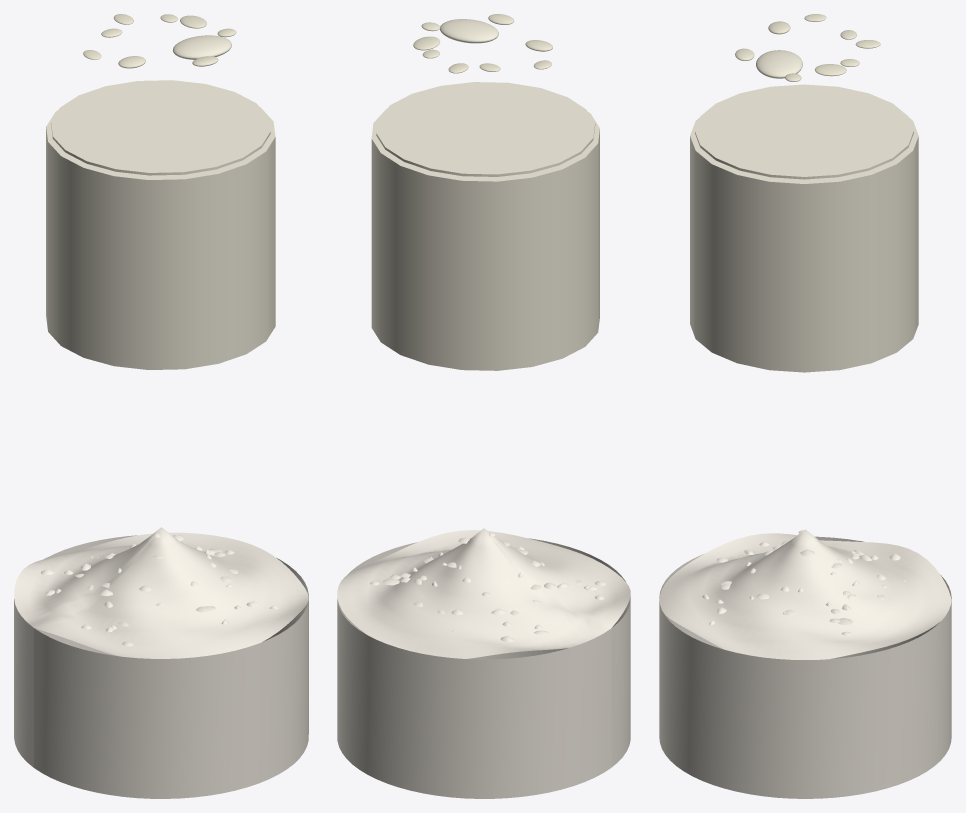
Rendered from PowderVisualRoot.fbx.
3 renders of one model, left to right at view 1: azimuth 30°, elevation 25°; view 2: azimuth 150°, elevation 25°; view 3: azimuth 270°, elevation 25°, orthographic.
Parts seen in each view (by area): view 1: InternalPowderMesh, PowderVolumeCore, PowderTopSurface, PowderContainedGrainSurface, PowderMound_Disabled_Static; view 2: InternalPowderMesh, PowderVolumeCore, PowderTopSurface, PowderContainedGrainSurface, PowderMound_Disabled_Static; view 3: InternalPowderMesh, PowderVolumeCore, PowderTopSurface, PowderContainedGrainSurface, PowderMound_Disabled_Static.
Part boxes in pixels (<box>): InternalPowderMesh: <box>14,527,308,798</box>; PowderVolumeCore: <box>46,107,275,369</box>; PowderTopSurface: <box>51,80,270,175</box>; PowderContainedGrainSurface: <box>65,81,259,164</box>; PowderMound_Disabled_Static: <box>172,35,231,59</box>; InternalPowderMesh: <box>337,528,630,798</box>; PowderVolumeCore: <box>371,109,599,370</box>; PowderTopSurface: <box>376,82,595,176</box>; PowderContainedGrainSurface: <box>385,84,586,169</box>; PowderMound_Disabled_Static: <box>440,19,498,43</box>; InternalPowderMesh: <box>659,529,951,798</box>; PowderVolumeCore: <box>690,117,918,372</box>; PowderTopSurface: <box>695,84,913,179</box>; PowderContainedGrainSurface: <box>704,85,902,168</box>; PowderMound_Disabled_Static: <box>756,50,802,78</box>.
Size of the model in its own units: 10.55 by 27.54 by 10.55.
